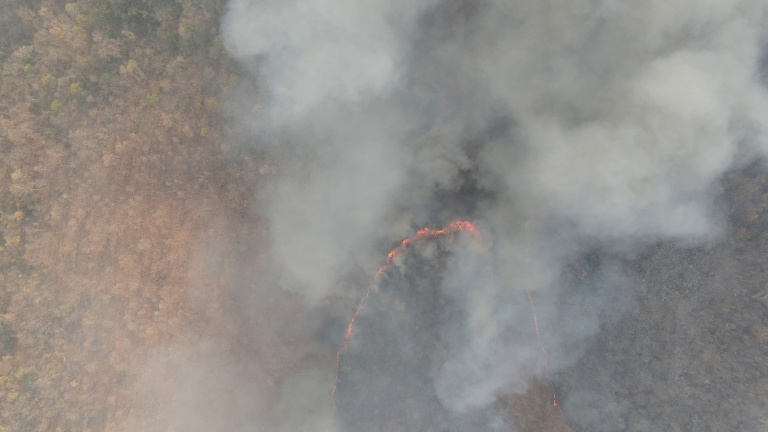fire: (326, 215, 491, 406), (517, 275, 566, 410)
smoke: (450, 1, 756, 396), (221, 1, 420, 297), (136, 345, 342, 432)
